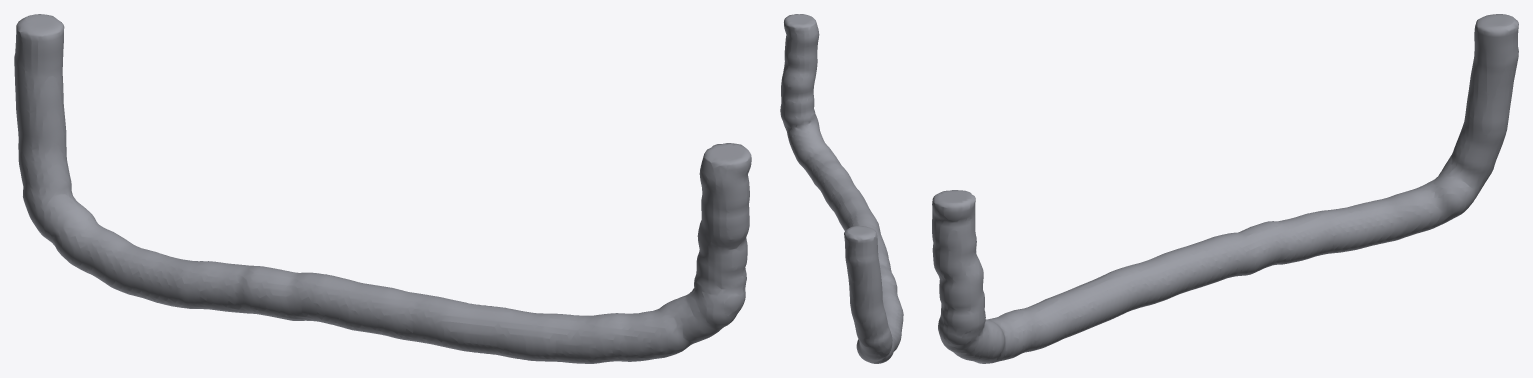
File: ceiling handle.fbx
3 views of the same model, side by side, from view 1: azimuth 30°, elevation 25°; view 2: azimuth 150°, elevation 25°; view 3: azimuth 270°, elevation 25° (orthographic). The views are drawn at different scales.
Parts seen in each view (by area): view 1: Layer_1; view 2: Layer_1; view 3: Layer_1.
Part boxes in pixels (x1,y1,x2,y2): Layer_1: (14,14,751,363); Layer_1: (780,14,903,363); Layer_1: (932,14,1518,363).
Bounding box in the file's own units: 0.6367 × 0.8181 × 0.3224.
